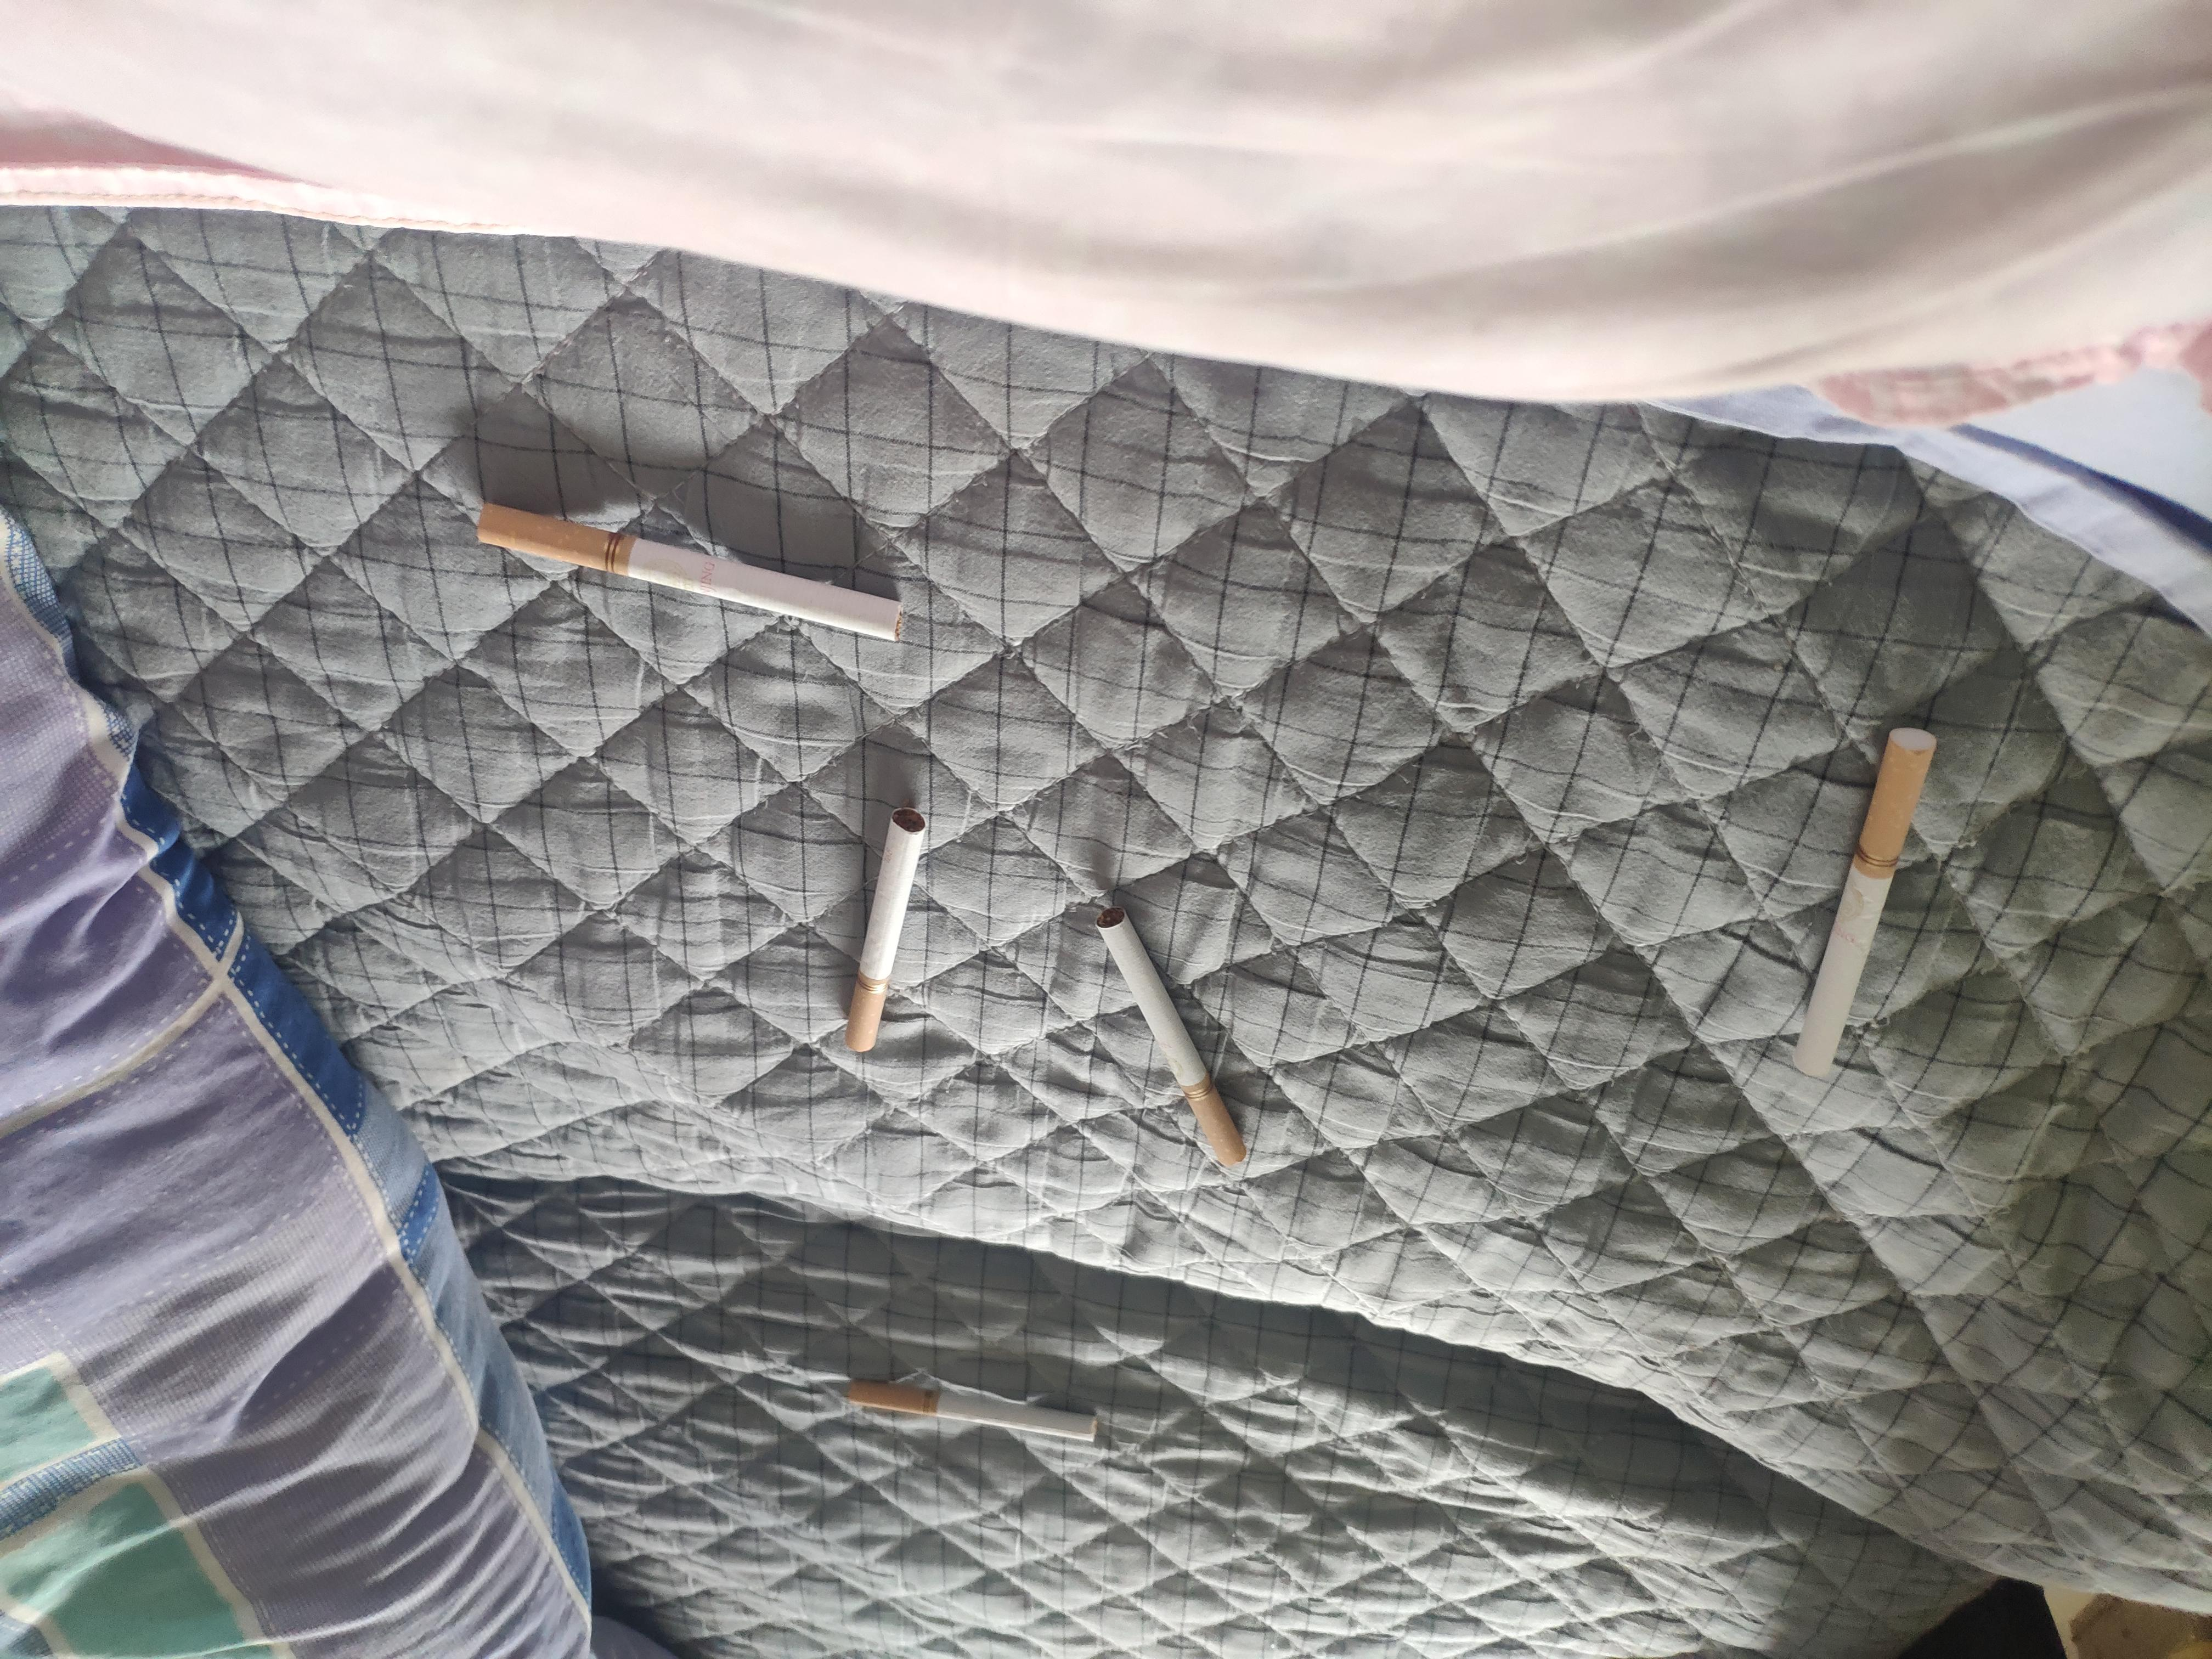smoke: (1310, 1016, 1738, 1159), (284, 582, 423, 936), (967, 497, 1123, 756), (1289, 608, 1371, 852), (1115, 218, 1366, 281)
